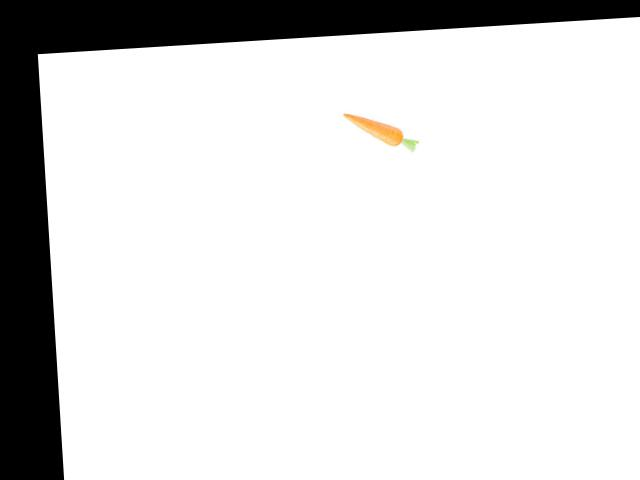carrot: (340, 105, 412, 149)
